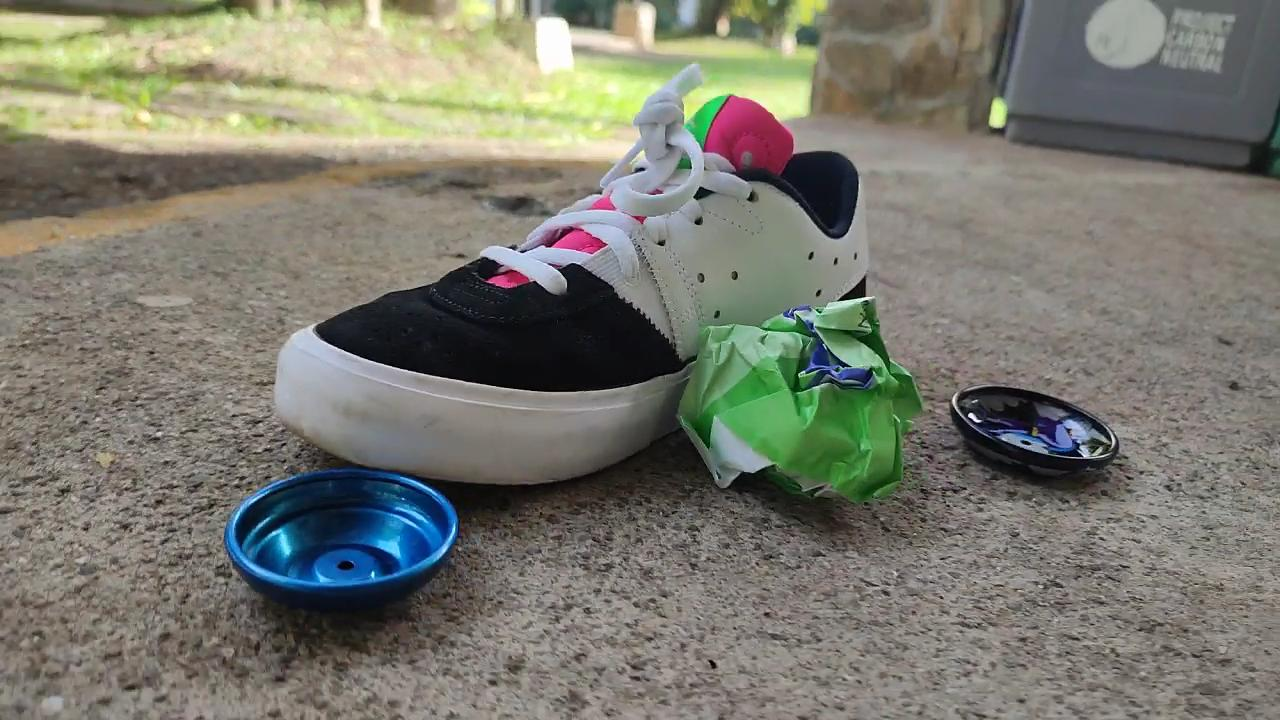Paper: (666, 268, 933, 523)
